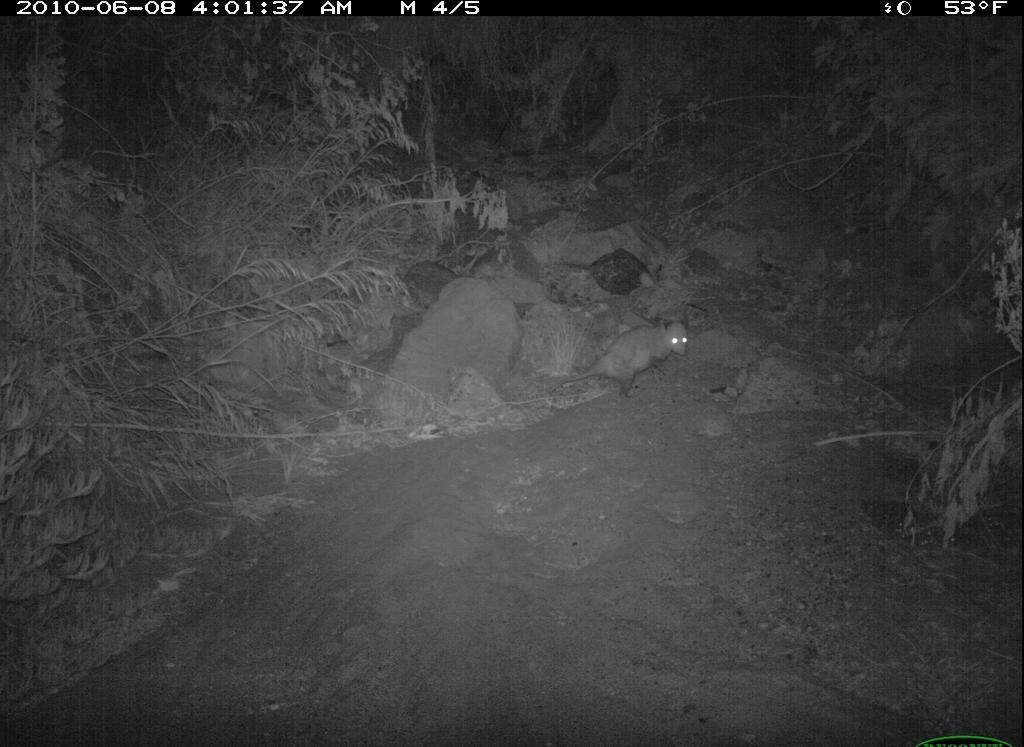opossum: (555, 306, 702, 408)
